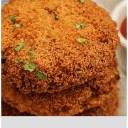cutlet: (2, 1, 110, 84), (4, 88, 117, 114)
